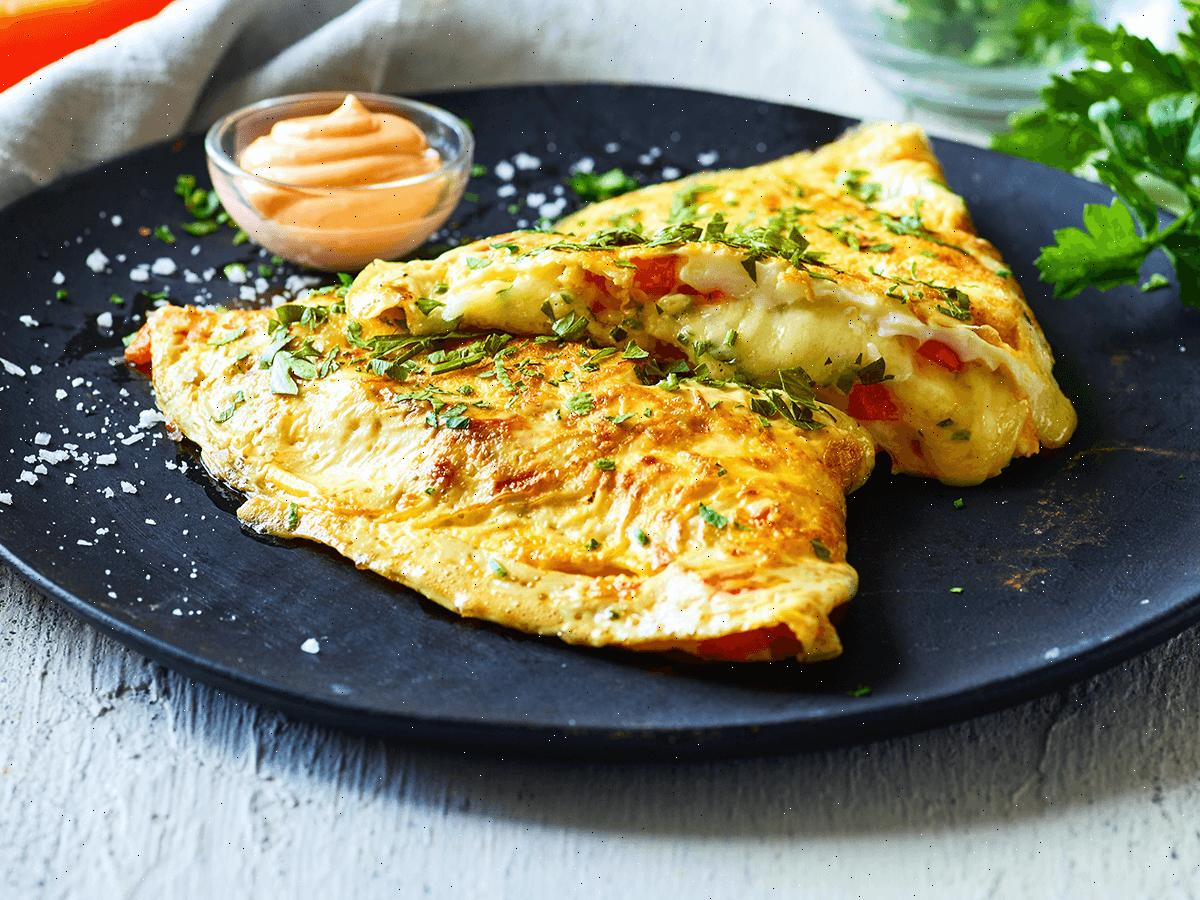omelette: (259, 162, 1064, 615)
